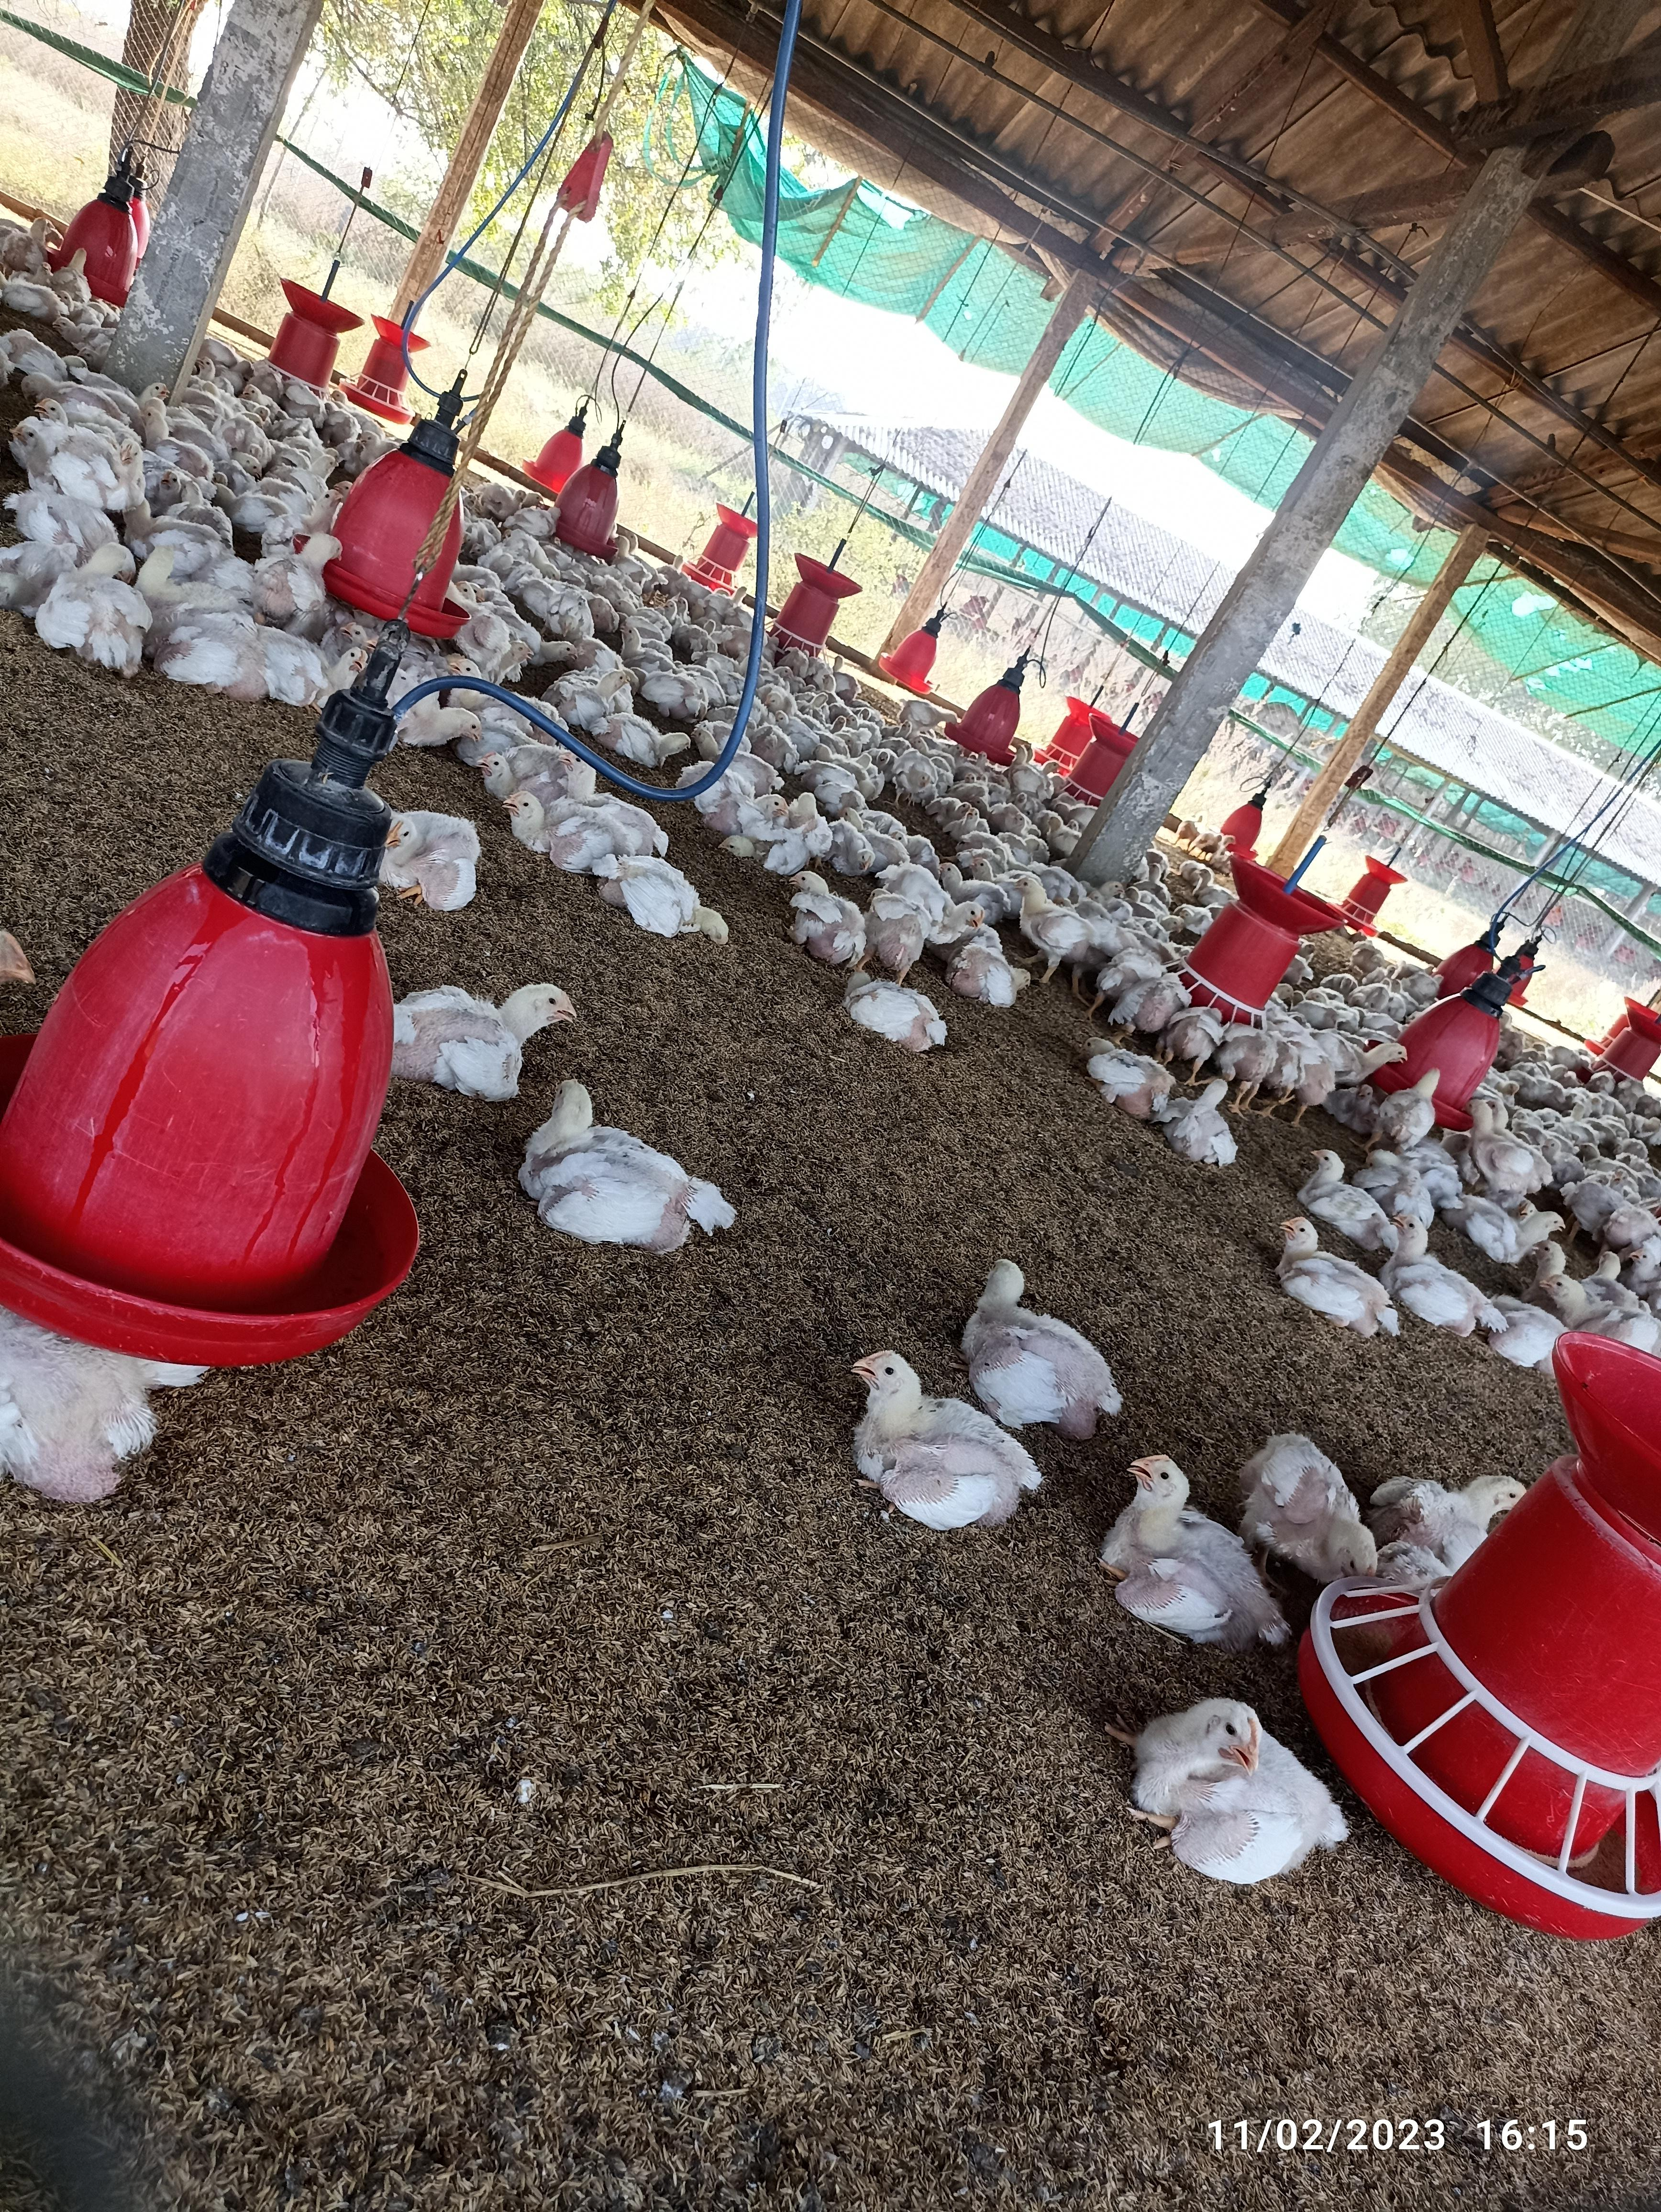Pollos: (1118, 1696, 1350, 1882), (525, 1069, 735, 1244), (848, 1345, 1047, 1528), (956, 1251, 1122, 1420), (1111, 1446, 1256, 1633), (1256, 1429, 1392, 1580), (400, 980, 572, 1085), (44, 544, 157, 672), (1277, 1214, 1396, 1331), (595, 853, 729, 946), (1396, 1469, 1532, 1558), (1389, 1205, 1481, 1324), (502, 789, 656, 858), (843, 973, 951, 1054), (391, 811, 482, 905), (1008, 869, 1108, 952), (883, 864, 995, 937), (1083, 1029, 1171, 1116), (783, 867, 860, 959), (265, 619, 365, 686), (1537, 1266, 1651, 1321), (590, 712, 696, 768), (1305, 1143, 1380, 1218), (1183, 1078, 1237, 1172), (951, 942, 1029, 1007), (1371, 1069, 1441, 1141), (473, 750, 551, 783)
